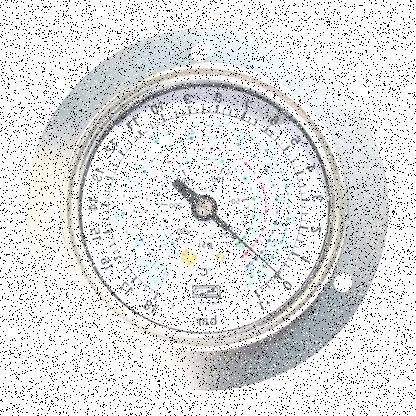needle: (211, 212, 282, 278)
